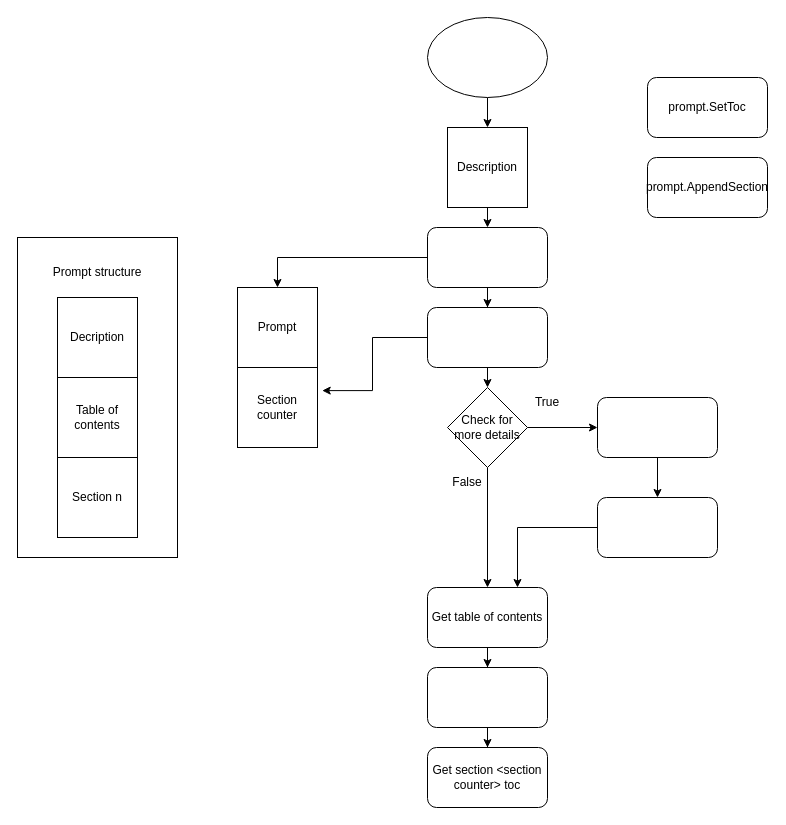
Image size: 786x825. Some labels were removed from this diagram. Each missing label, with the centre of its shape:
"Ask for more details" goes at point (657, 427).
"Init" goes at point (487, 57).
"prompt.SetDescription" goes at point (487, 257).
"prompt.UpdateDescription" goes at point (657, 527).
"sectionCounter.incr" goes at point (487, 697).
"sectionCounter.reset" goes at point (487, 337).
